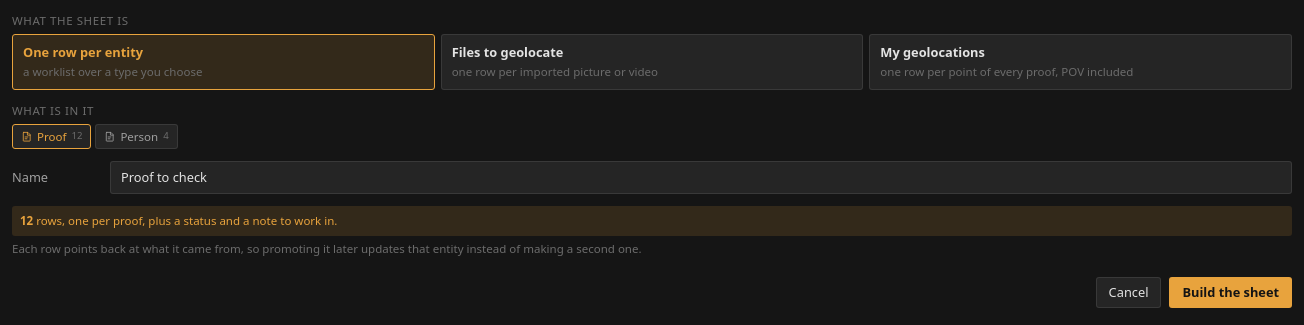
Scenario: choosing what the sheet is › counts the proofs, not whatever type the other branch was sitting on
Click the button that starts with "My geolocations" at (1081,62), box [869, 34, 1292, 90]
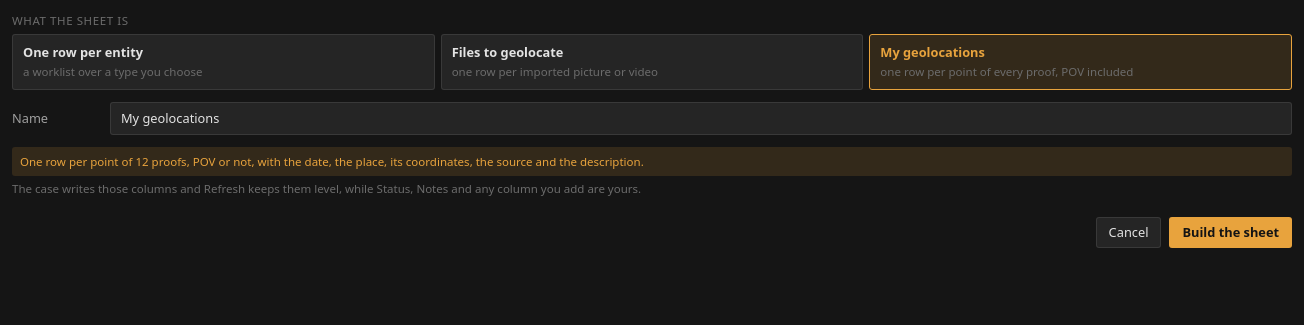
Check: the text "One row per point of 12 proofs, POV or not" is shown, box [20, 154, 644, 169]
Check: the text "the date, the place, its coordinates, the source" is shown, box [20, 154, 644, 169]
